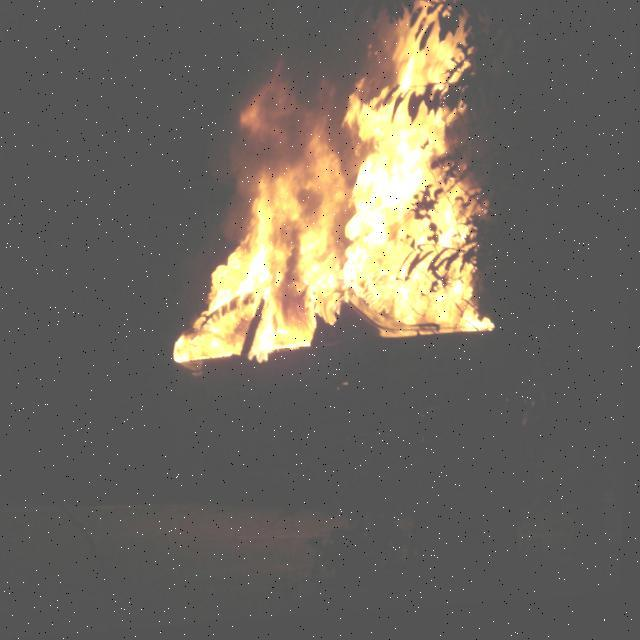Fire: (169, 0, 508, 363)
